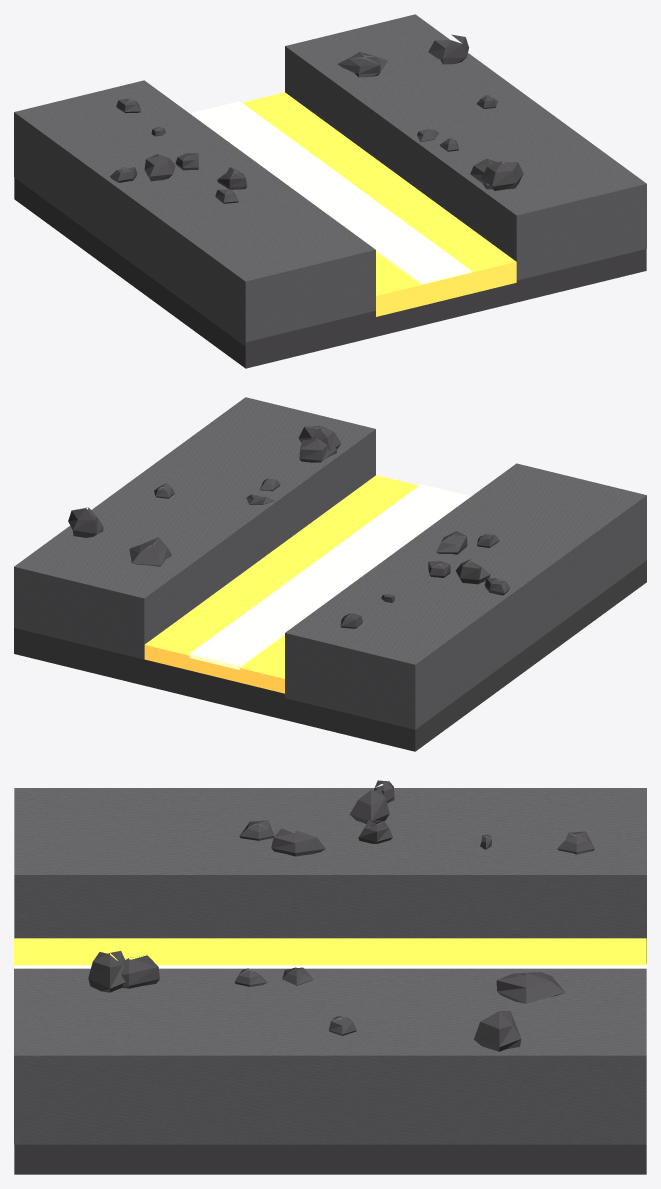
Rendered from volcano-and-lava-fields-volcano-and-lava-fields-lava-f-7c021113__37438.glb.
3 renders of one model, top to bottom at view 1: azimuth 30°, elevation 25°; view 2: azimuth 150°, elevation 25°; view 3: azimuth 270°, elevation 25°, orthographic. The views are drawn at different scales.
Parts seen in each view (by area): view 1: volcano-and-lava-fields-lava-flow-channel-straight; view 2: volcano-and-lava-fields-lava-flow-channel-straight; view 3: volcano-and-lava-fields-lava-flow-channel-straight.
Part boxes in pixels (x1,y1,x2,y2): volcano-and-lava-fields-lava-flow-channel-straight: (14, 14, 646, 368); volcano-and-lava-fields-lava-flow-channel-straight: (14, 397, 646, 751); volcano-and-lava-fields-lava-flow-channel-straight: (14, 780, 646, 1174).
Bounding box in the file's own units: 4 × 1.06 × 4.
Materials: 4 (1 with a texture image).
